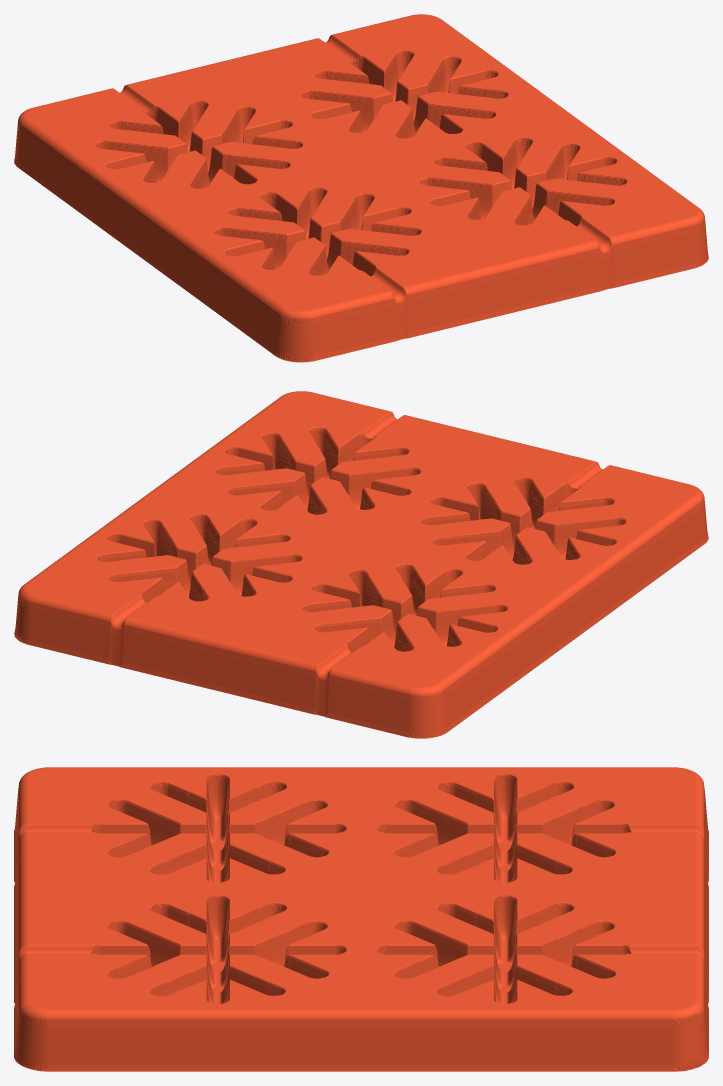
File: mold.glb
The picture shows the model from 3 angles, top to bottom: view 1: azimuth 30°, elevation 25°; view 2: azimuth 150°, elevation 25°; view 3: azimuth 270°, elevation 25°; orthographic projection. The views are drawn at different scales.
Parts seen in each view (by area): view 1: geometry_0; view 2: geometry_0; view 3: geometry_0.
Part boxes in pixels (x1,y1,x2,y2): geometry_0: (14, 14, 708, 362); geometry_0: (14, 391, 708, 738); geometry_0: (14, 767, 708, 1071).
Bounding box in the file's own units: 0.1497 × 0.0155 × 0.1735.
